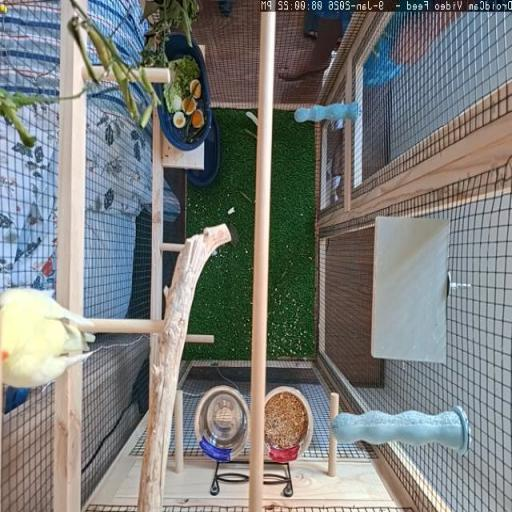bebedero: (196, 385, 249, 461)
comedero: (266, 386, 313, 463)
ninfa: (1, 290, 95, 387)
